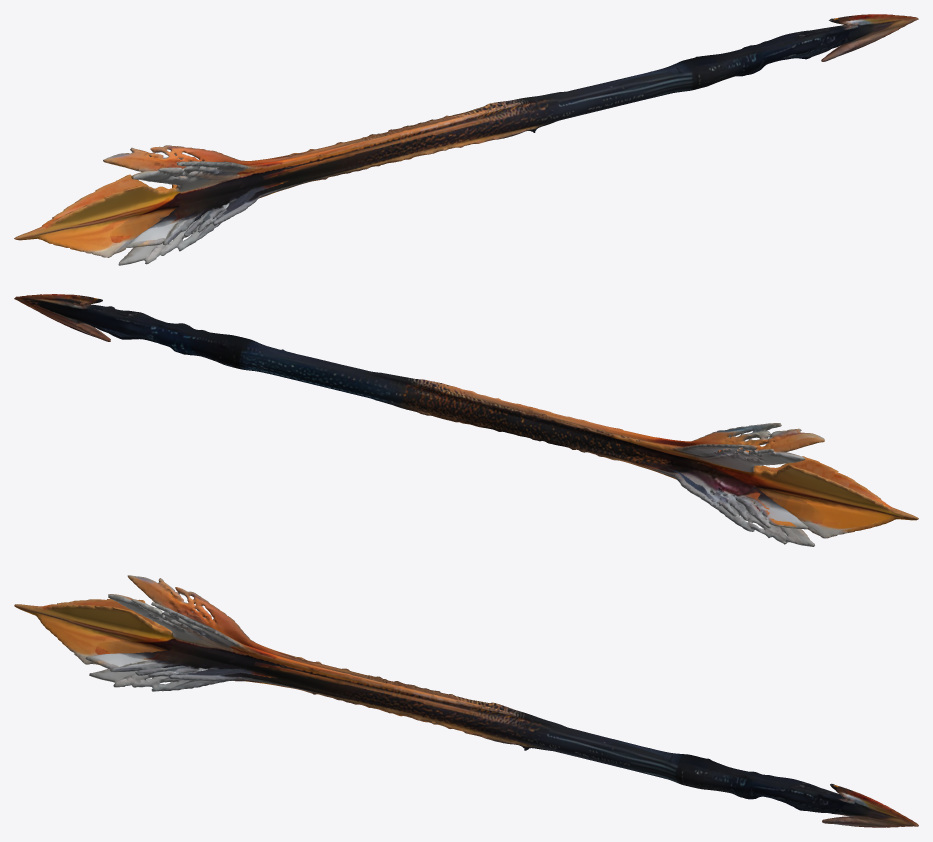
3 views of the same model, one above another, from view 1: azimuth 30°, elevation 25°; view 2: azimuth 150°, elevation 25°; view 3: azimuth 330°, elevation 25° (orthographic).
Visible parts, largest first — view 1: tripo_node_d403d525-f286-423a-b8f3-b9e9ab868e31; view 2: tripo_node_d403d525-f286-423a-b8f3-b9e9ab868e31; view 3: tripo_node_d403d525-f286-423a-b8f3-b9e9ab868e31.
Part boxes in pixels (<box>): tripo_node_d403d525-f286-423a-b8f3-b9e9ab868e31: <box>14,14,918,265</box>; tripo_node_d403d525-f286-423a-b8f3-b9e9ab868e31: <box>14,294,918,546</box>; tripo_node_d403d525-f286-423a-b8f3-b9e9ab868e31: <box>14,575,918,827</box>.
Bounding box in the file's own units: 0.9997 × 0.0974 × 0.1045.
Materials: 1 (1 with a texture image).
